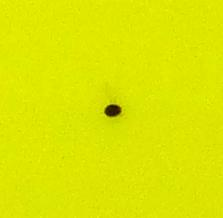Coleoptera: (100, 100, 123, 118)
